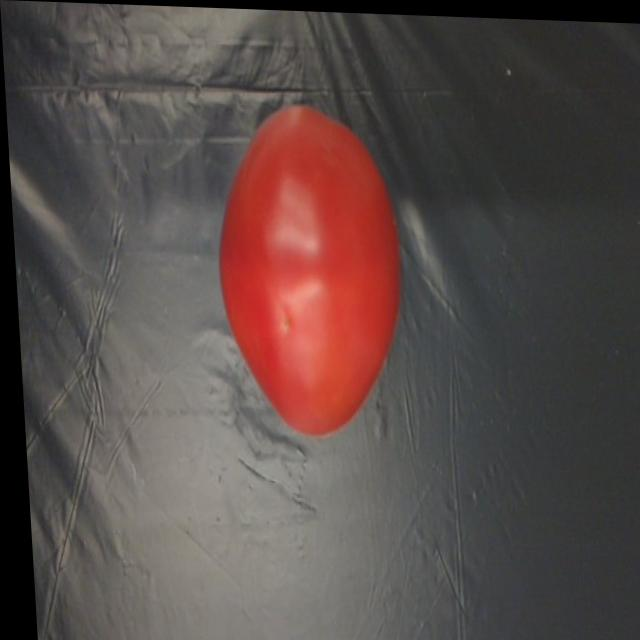kirmizi: (204, 82, 396, 436)
